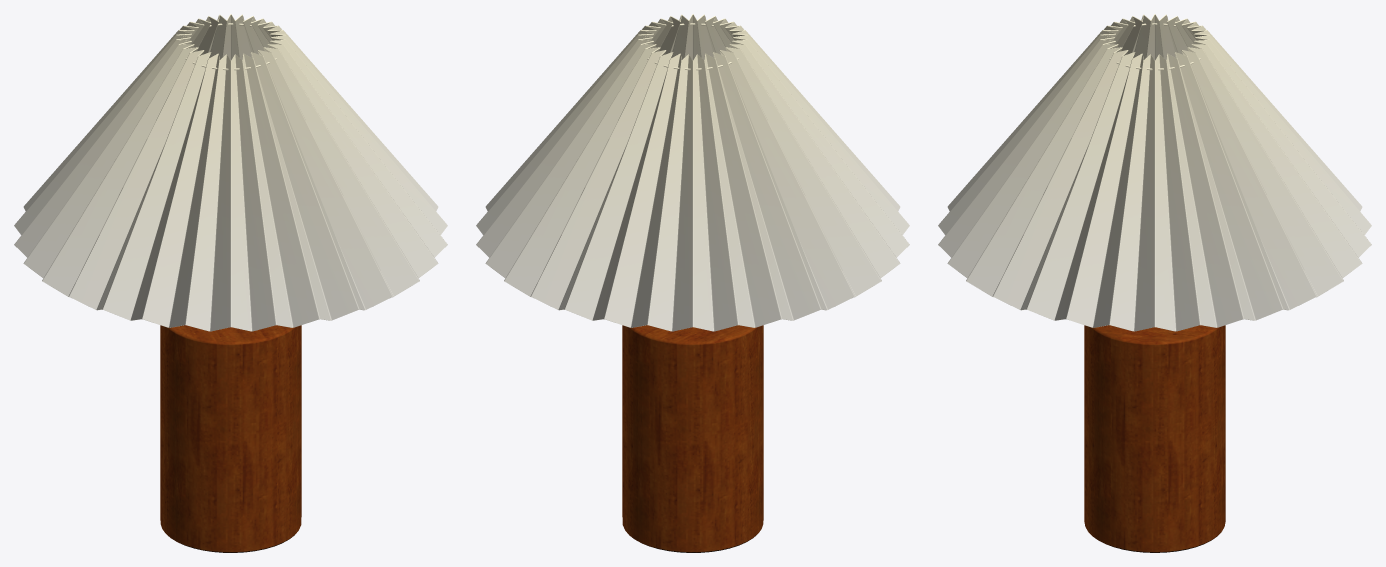
The model's file is MEGA_PACK_lamp__lamp-507702_frame_brown.glb.
The picture shows the model from 3 angles, left to right: view 1: azimuth 30°, elevation 25°; view 2: azimuth 150°, elevation 25°; view 3: azimuth 270°, elevation 25°; orthographic projection.
Parts seen in each view (by area): view 1: lamp-507702_frame_brown; view 2: lamp-507702_frame_brown; view 3: lamp-507702_frame_brown.
Part boxes in pixels (box(x1,y1,x2,y2)): lamp-507702_frame_brown: box(14, 14, 447, 552); lamp-507702_frame_brown: box(476, 14, 909, 552); lamp-507702_frame_brown: box(938, 14, 1371, 552).
Bounding box in the file's own units: 0.2434 × 0.2999 × 0.242.
Materials: 1 (1 with a texture image).
